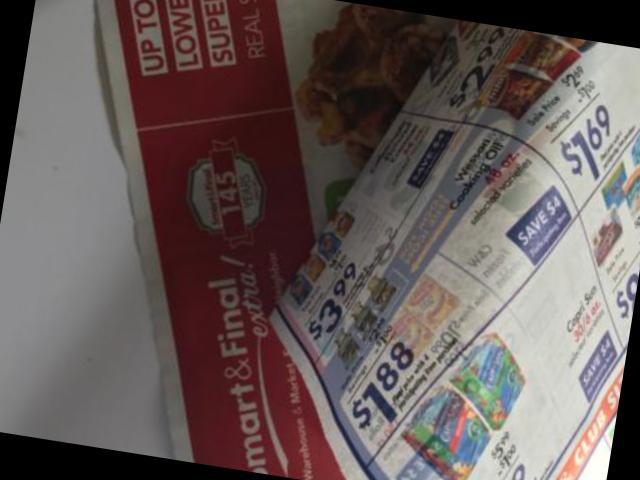cardboard paper: (93, 0, 457, 480), (272, 20, 640, 480)
